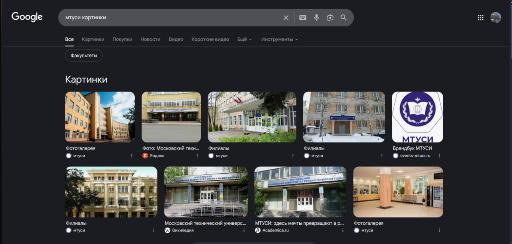google: (1, 2, 512, 244)
